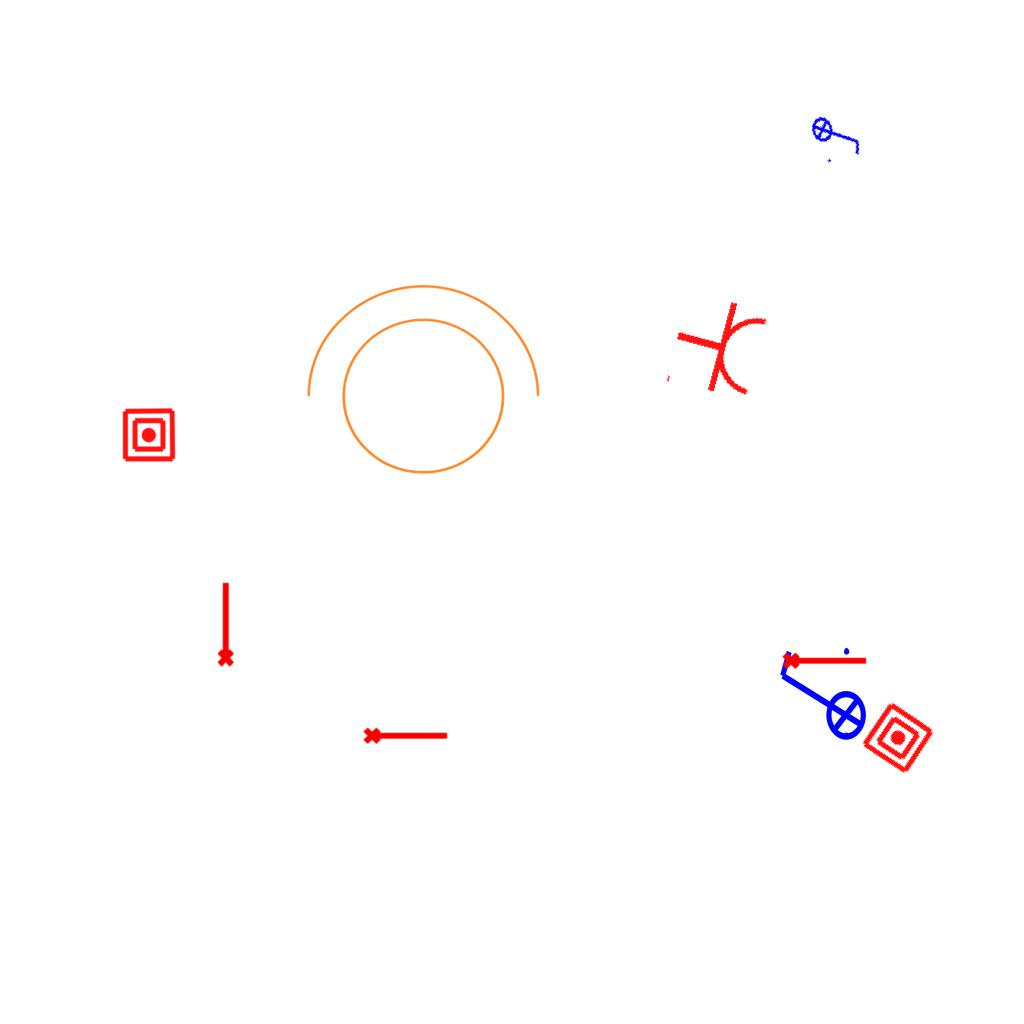ASR_Ansaugoeffnung: (213, 580, 236, 668), (362, 723, 450, 746), (781, 648, 869, 671)
Ausschalter_beleuchtet: (772, 642, 868, 754), (807, 102, 867, 168)
NAM-Nichtautomatischer_Melder: (859, 699, 937, 777), (121, 407, 177, 463)
Scheinwerfer_fuer_Alarmbeleuchtung: (285, 274, 549, 499)
Schukosteckdose_einfach: (662, 288, 773, 408)
